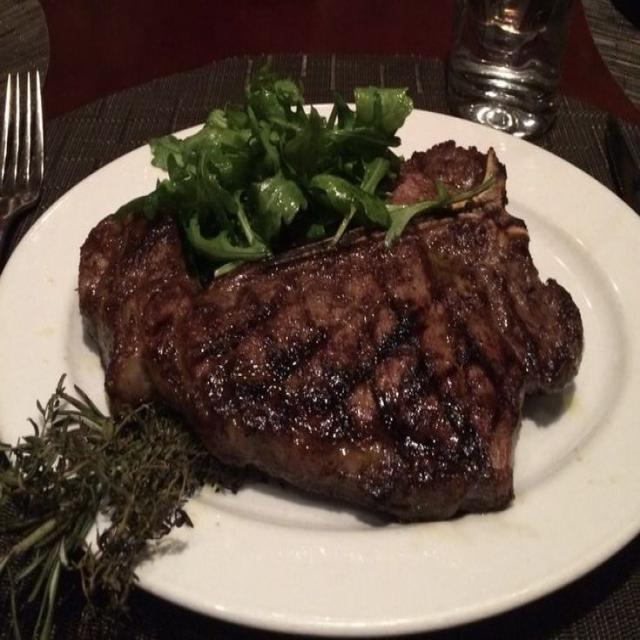beef steak: (78, 150, 583, 518)
